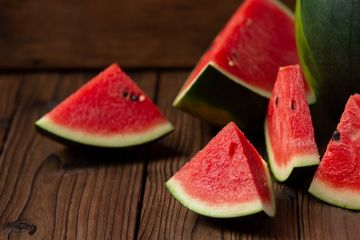Semangka: (169, 119, 271, 223), (59, 54, 159, 159), (241, 85, 325, 184), (314, 88, 360, 194)
